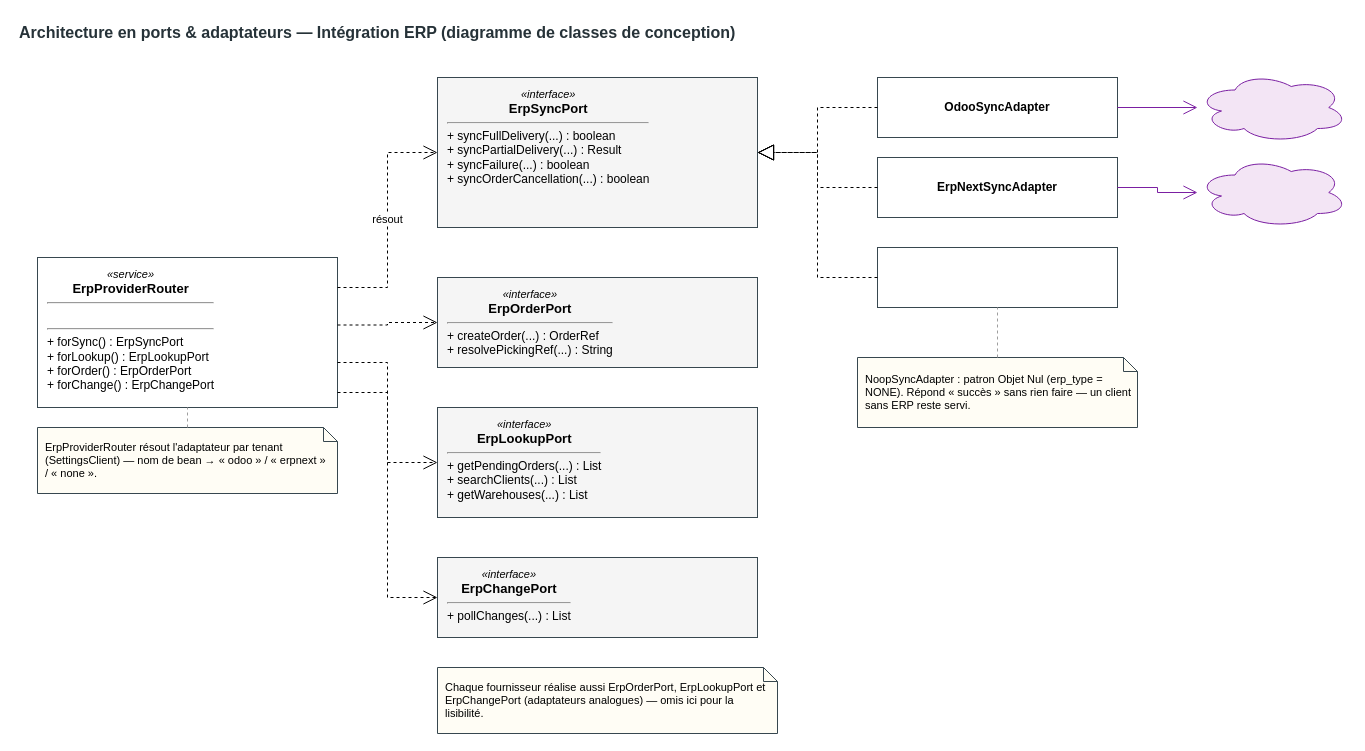
This 1365x751 diagram has some shape labels left out. Here are the shapes that lost their labels. From the top down, the centre of each, then its label:
At point 1272,107: "Odoo (JSON-RPC)".
At point 1272,192: "ERPNext (REST)".
At point 997,277: "NoopSyncAdapter".
